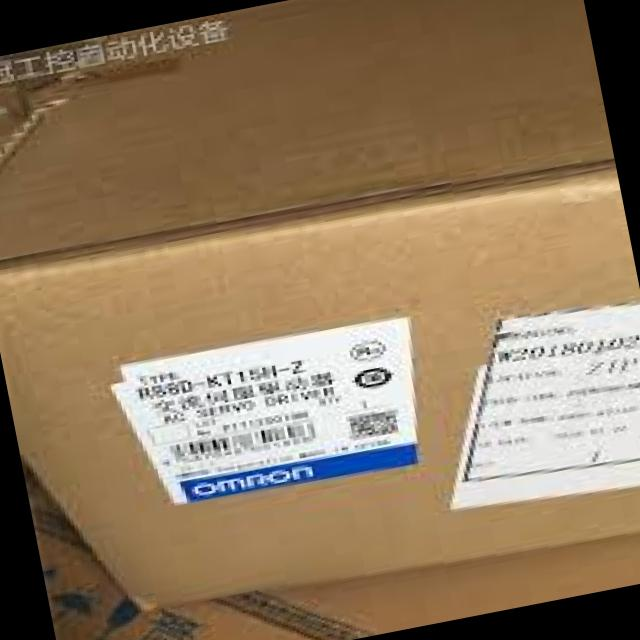box: (135, 49, 528, 624)
